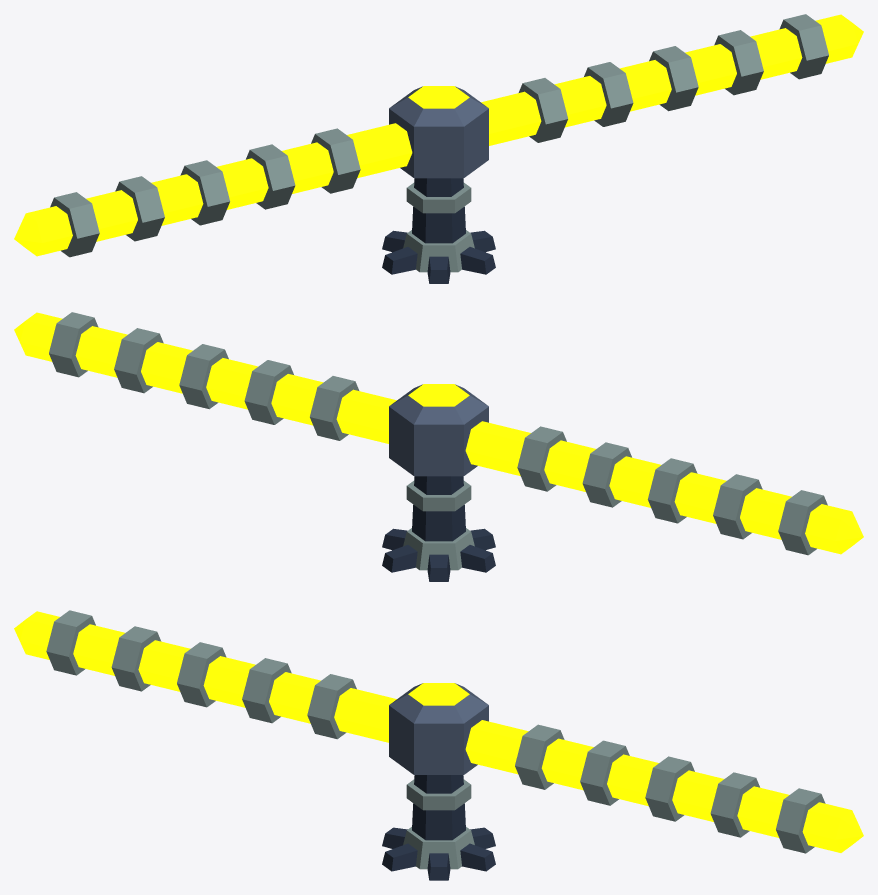
The model's file is spin-trap-1.fbx.
The picture shows the model from 3 angles, top to bottom: view 1: azimuth 30°, elevation 25°; view 2: azimuth 150°, elevation 25°; view 3: azimuth 330°, elevation 25°; orthographic projection.
Visible parts, largest first — view 1: Cylinder.015, Cylinder.011; view 2: Cylinder.015, Cylinder.011; view 3: Cylinder.015, Cylinder.011.
Part boxes in pixels (x1,y1,x2,y2): Cylinder.015: [14, 14, 863, 257]; Cylinder.011: [382, 178, 495, 283]; Cylinder.015: [14, 312, 863, 555]; Cylinder.011: [382, 476, 495, 581]; Cylinder.015: [14, 610, 863, 853]; Cylinder.011: [382, 775, 495, 880].
Size of the model in its own units: 984 by 178 by 114.
